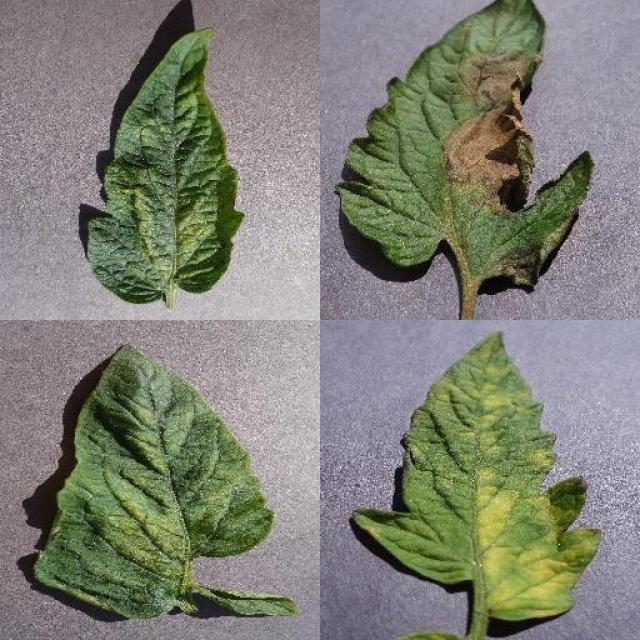Late Blight: (333, 0, 595, 288)
